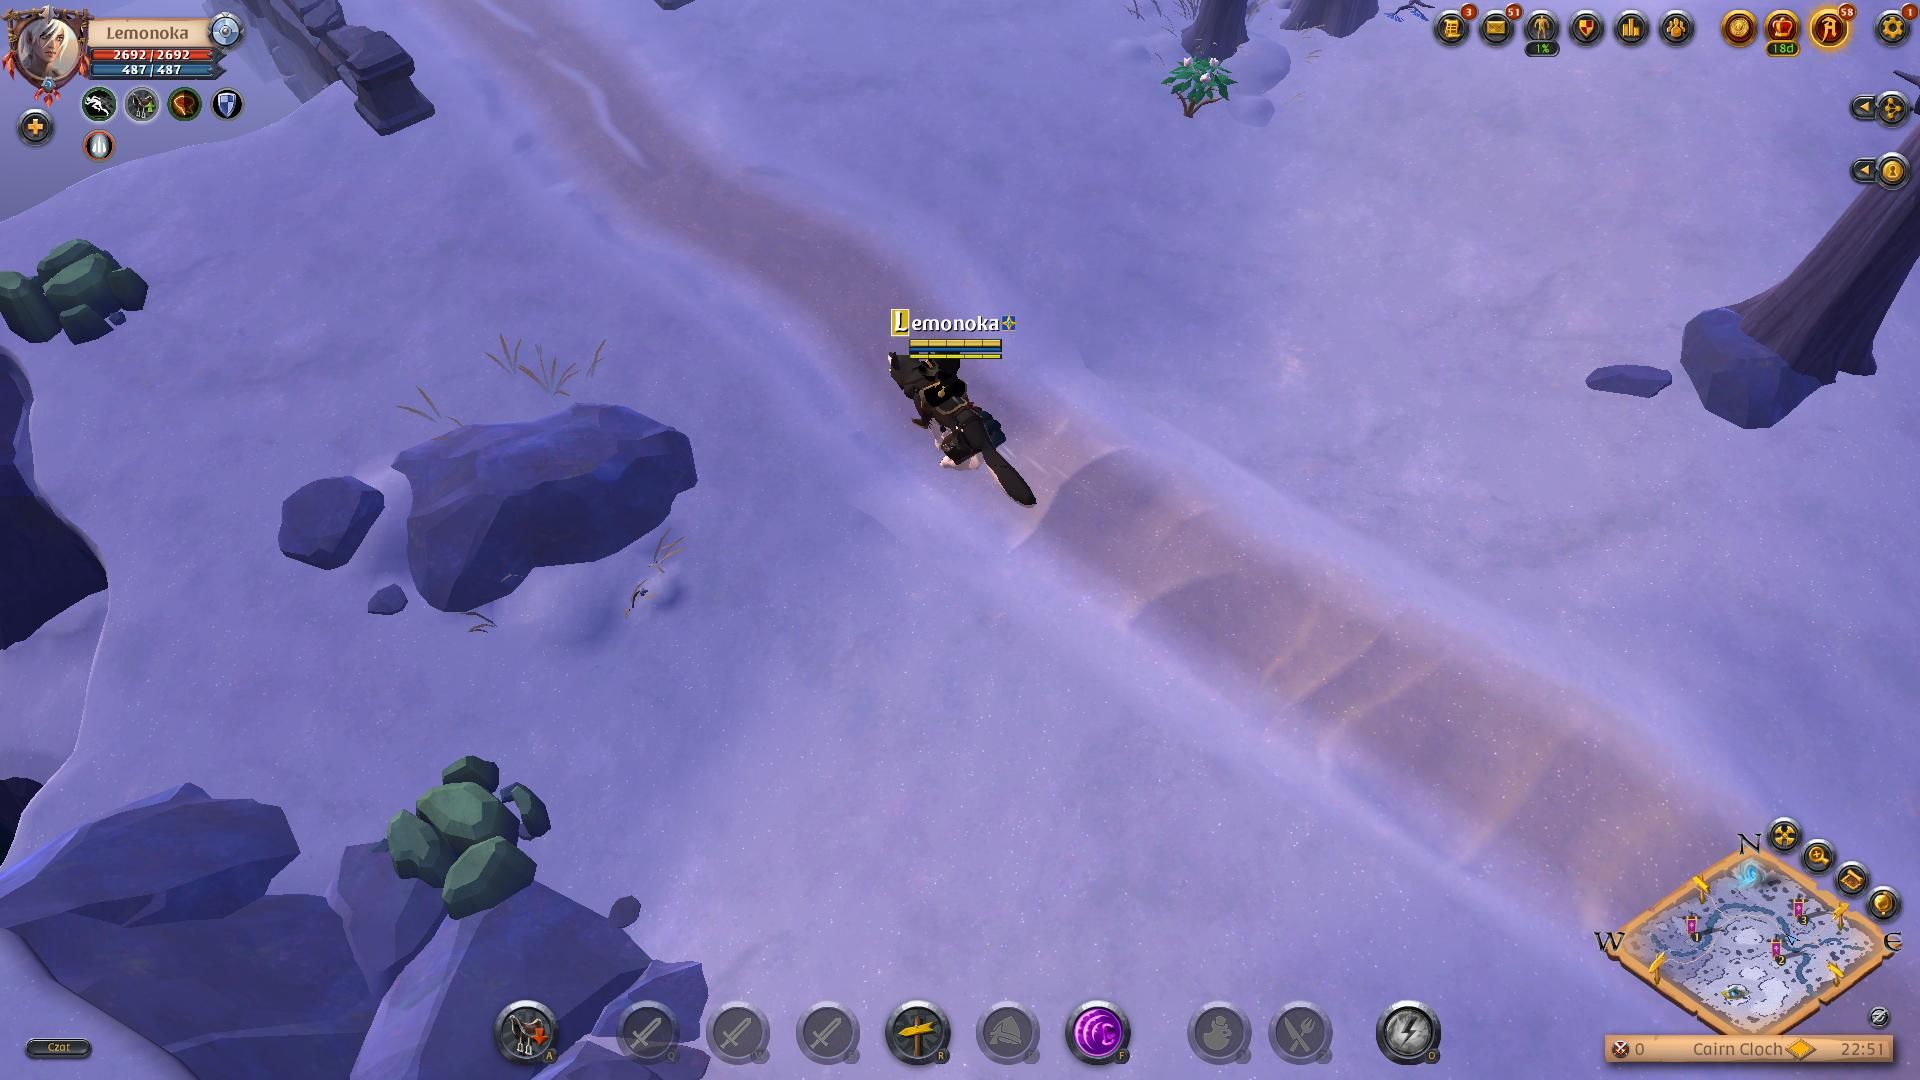fiber tier 3: (1160, 51, 1236, 127)
rock tier 3: (385, 750, 556, 923), (0, 232, 157, 349)
